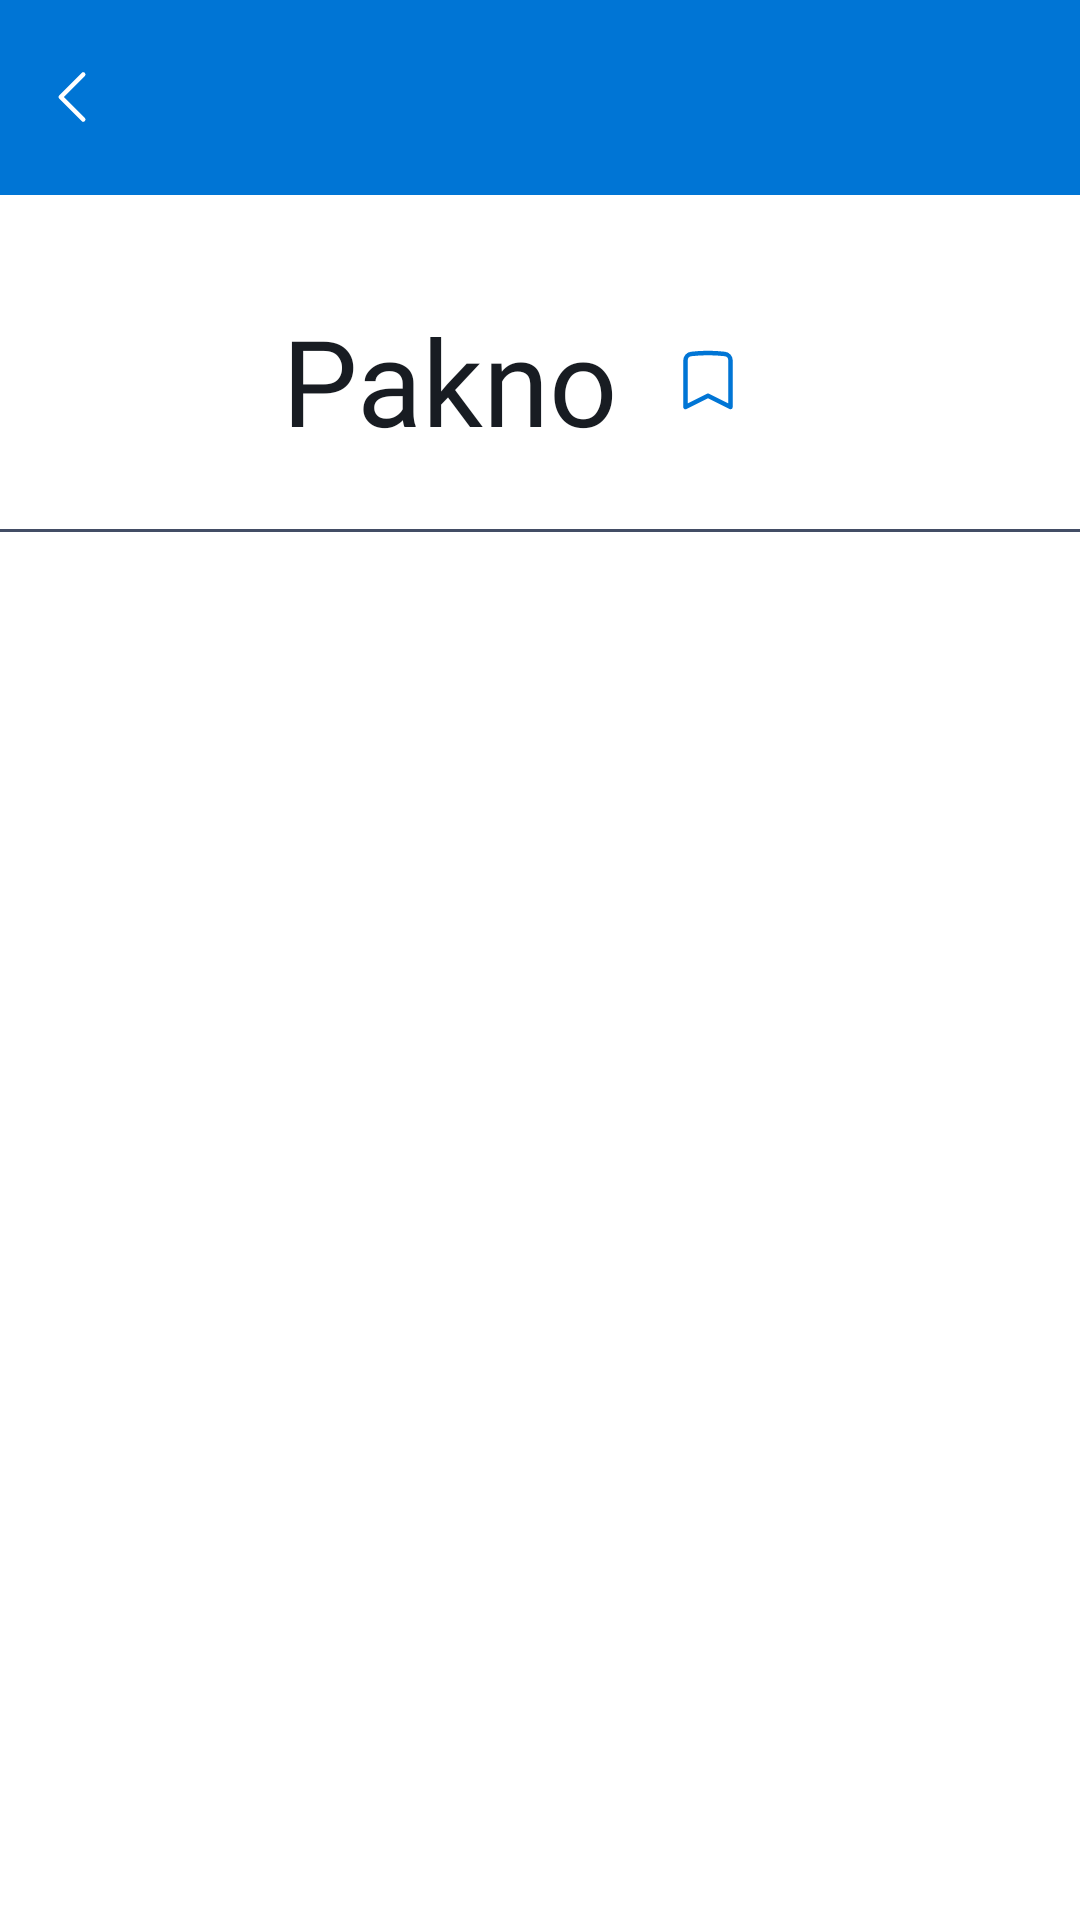

Screen size 1080x1920. Icon name, then its box in pixels as (x1, y1, x2, y2):
back arrow: (58, 72, 86, 122)
Save: (683, 350, 733, 410)
